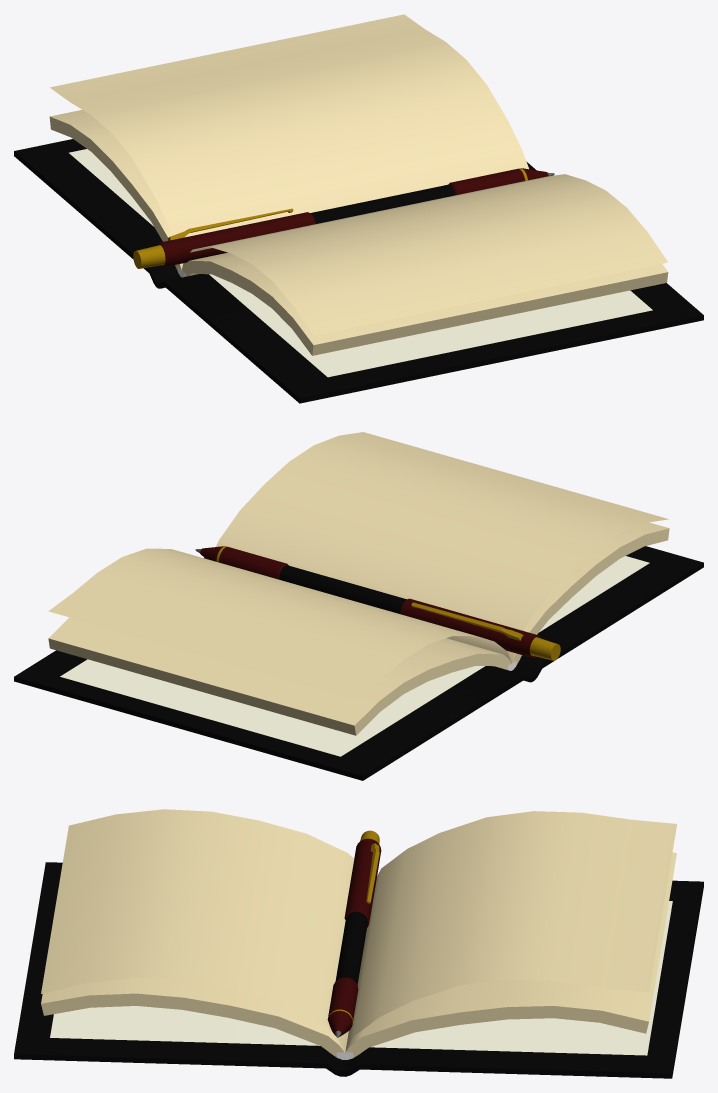
File: Guest-book.glb
The picture shows the model from 3 angles, top to bottom: view 1: azimuth 30°, elevation 25°; view 2: azimuth 150°, elevation 25°; view 3: azimuth 270°, elevation 25°; orthographic projection. The views are drawn at different scales.
Visible parts, largest first — view 1: Object_2.004, Object_3.002, Object_9.002, Object_12.004, Object_8.001, Object_10.002, Object_5.002, Object_4.002; view 2: Object_3.002, Object_2.004, Object_12.004, Object_9.002, Object_8.001, Object_10.002, Object_5.002, Object_11.001, Object_4.002; view 3: Object_2.004, Object_3.002, Object_9.002, Object_12.004, Object_8.001, Object_10.002, Object_5.002, Object_11.001.
Boxes of the visible parts, x1,y1,x2,y2 form: Object_2.004: [50, 14, 528, 269]; Object_3.002: [181, 174, 667, 335]; Object_9.002: [14, 139, 703, 403]; Object_12.004: [49, 109, 668, 355]; Object_8.001: [69, 149, 652, 377]; Object_10.002: [156, 168, 548, 267]; Object_5.002: [310, 184, 455, 223]; Object_4.002: [133, 245, 165, 268]; Object_3.002: [216, 432, 668, 662]; Object_2.004: [48, 548, 511, 698]; Object_12.004: [48, 522, 669, 735]; Object_9.002: [14, 546, 703, 780]; Object_8.001: [60, 556, 649, 756]; Object_10.002: [200, 546, 541, 657]; Object_5.002: [279, 565, 406, 613]; Object_11.001: [216, 546, 523, 640]; Object_4.002: [411, 603, 560, 660]; Object_2.004: [345, 811, 676, 1051]; Object_3.002: [41, 809, 354, 1051]; Object_9.002: [14, 862, 703, 1078]; Object_12.004: [41, 852, 676, 1057]; Object_8.001: [50, 901, 672, 1055]; Object_10.002: [327, 838, 381, 1036]; Object_5.002: [335, 911, 367, 984]; Object_11.001: [328, 843, 379, 1021].
Size of the model in its own units: 0.3393 by 0.067 by 0.4651.
